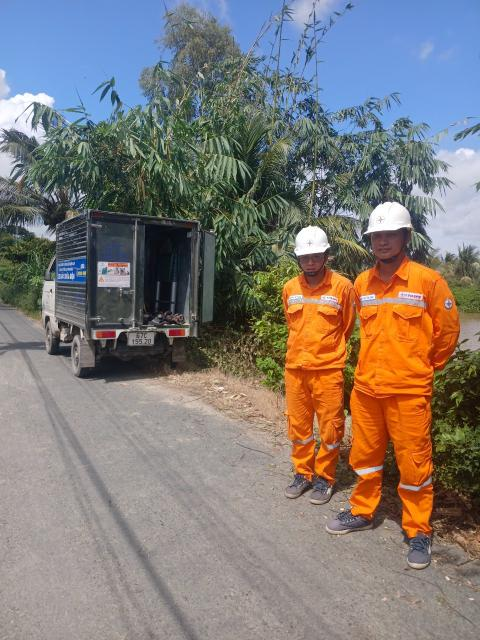helmet: (366, 196, 421, 249), (291, 216, 336, 265)
shoes: (317, 498, 375, 542), (398, 524, 446, 577), (307, 475, 336, 511), (279, 466, 303, 501)
